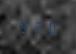nine: (18, 19, 29, 33)
two: (31, 19, 42, 34)
zero: (43, 20, 54, 34)
